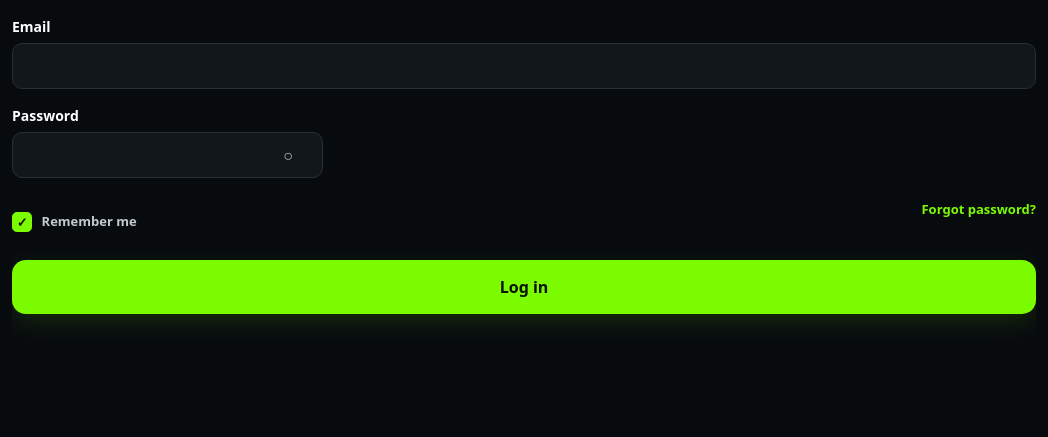
Test: AuthForm V2 › maps network failure safely
In the field labelled "Email": coordinates (524, 66) [13,44,1035,88], type "player@example.com"
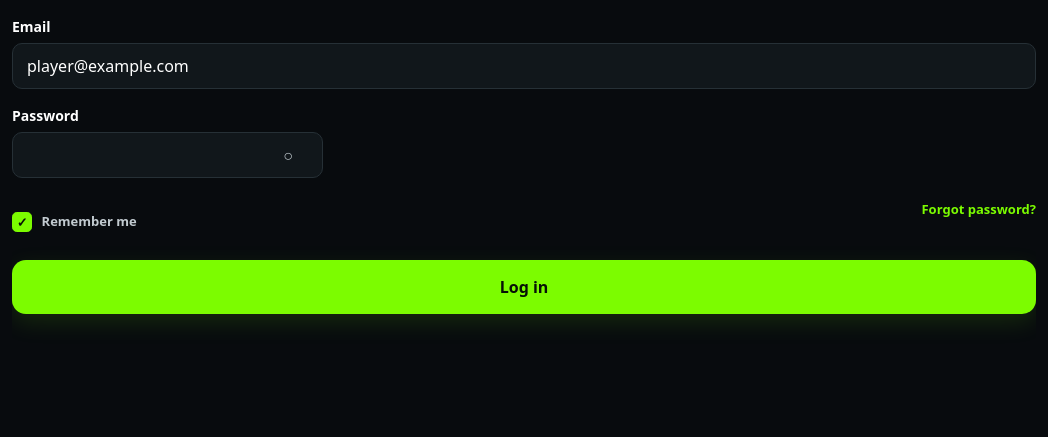
In the password field labelled "Password": coordinates (140, 155) [13,133,266,177], type "password1"
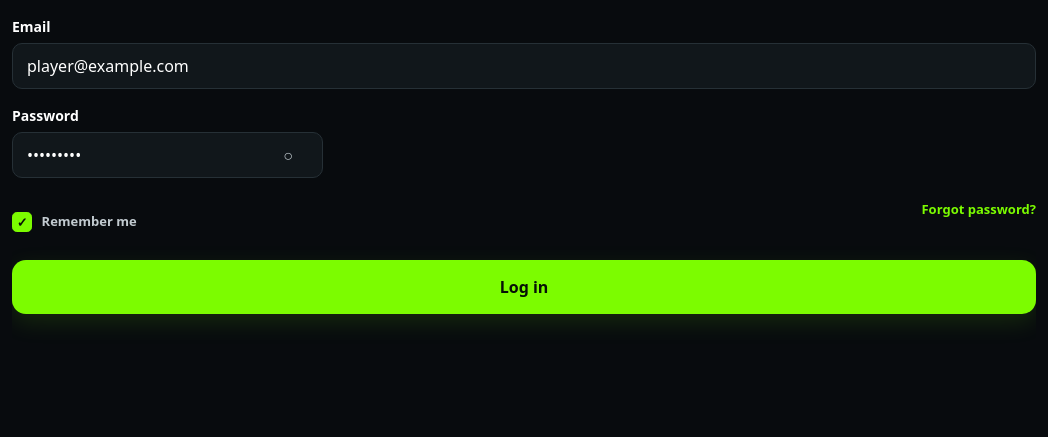
Submit the form
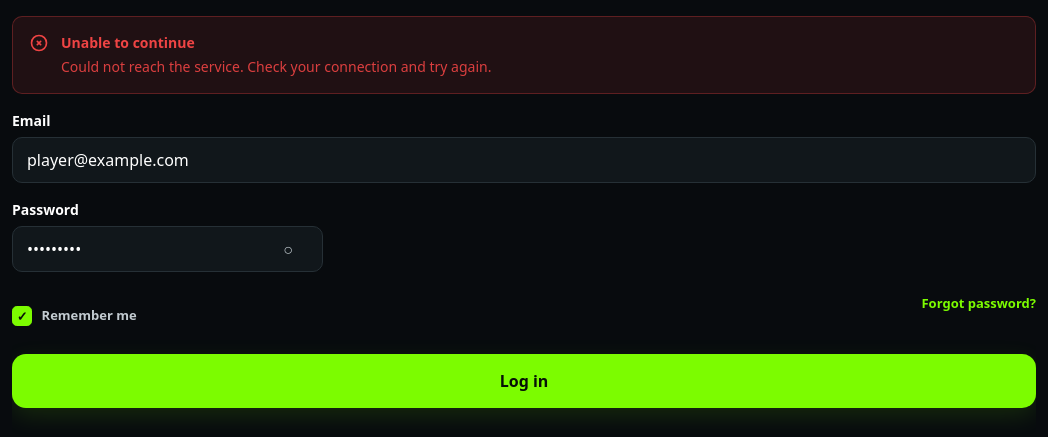
expect the message shows "Could not reach the service": met, box [61,57,491,76]
